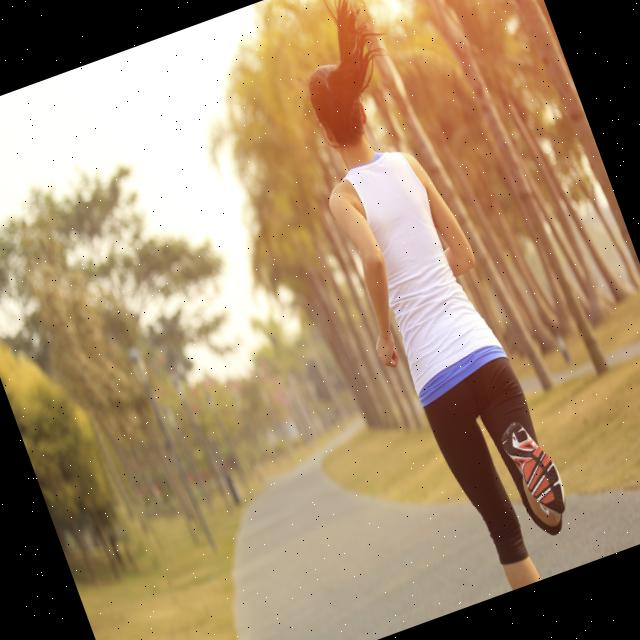Person: (254, 0, 592, 606)
